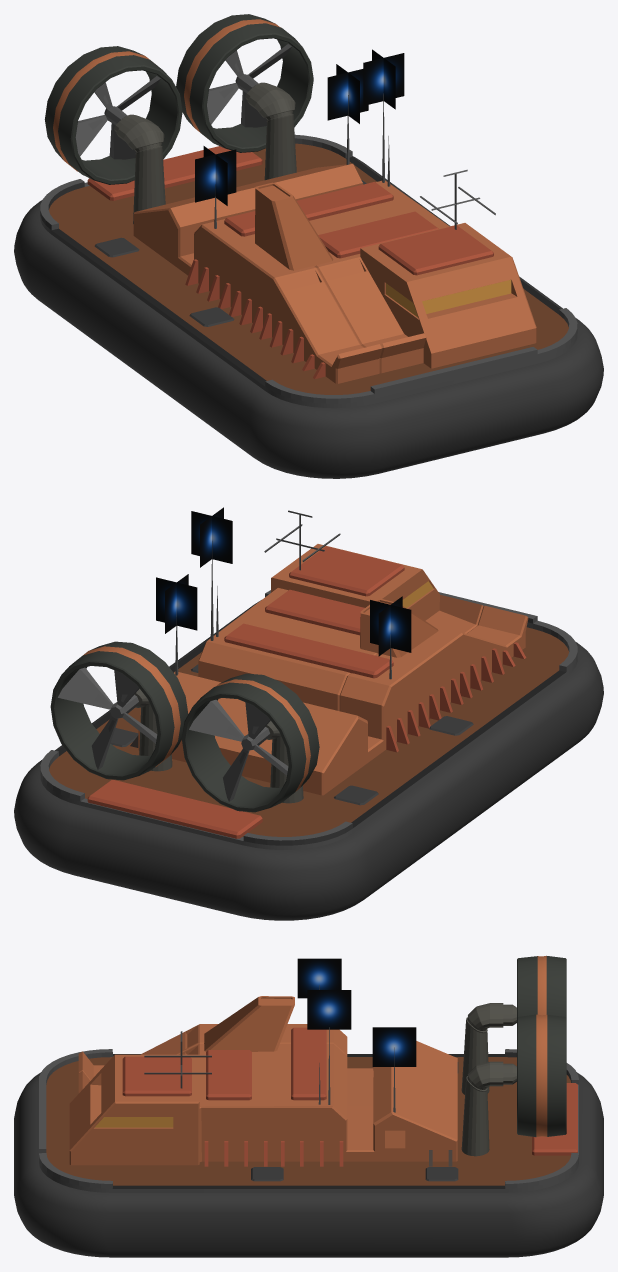
The model's file is model_hovercraft_02.fbx.
3 views of the same model, one above another, from view 1: azimuth 30°, elevation 25°; view 2: azimuth 150°, elevation 25°; view 3: azimuth 270°, elevation 25° (orthographic). The views are drawn at different scales.
Visible parts, largest first — view 1: model_hovercraft_02, emissivelight, propeller2, propeller1; view 2: model_hovercraft_02, emissivelight, propeller1, propeller2; view 3: model_hovercraft_02, emissivelight.
Part boxes in pixels (left/top/right/bottom): model_hovercraft_02: left=14, top=14, right=603, bottom=478; emissivelight: left=195, top=49, right=511, bottom=317; propeller2: left=207, top=44, right=291, bottom=127; propeller1: left=75, top=76, right=160, bottom=159; model_hovercraft_02: left=14, top=510, right=603, bottom=920; emissivelight: left=156, top=507, right=433, bottom=656; propeller1: left=189, top=699, right=288, bottom=801; propeller2: left=58, top=667, right=157, bottom=769; model_hovercraft_02: left=14, top=955, right=603, bottom=1257; emissivelight: left=95, top=958, right=416, bottom=1127.
Size of the model in its own units: 784 by 566 by 1278.
Materials: 2 (2 with a texture image).
